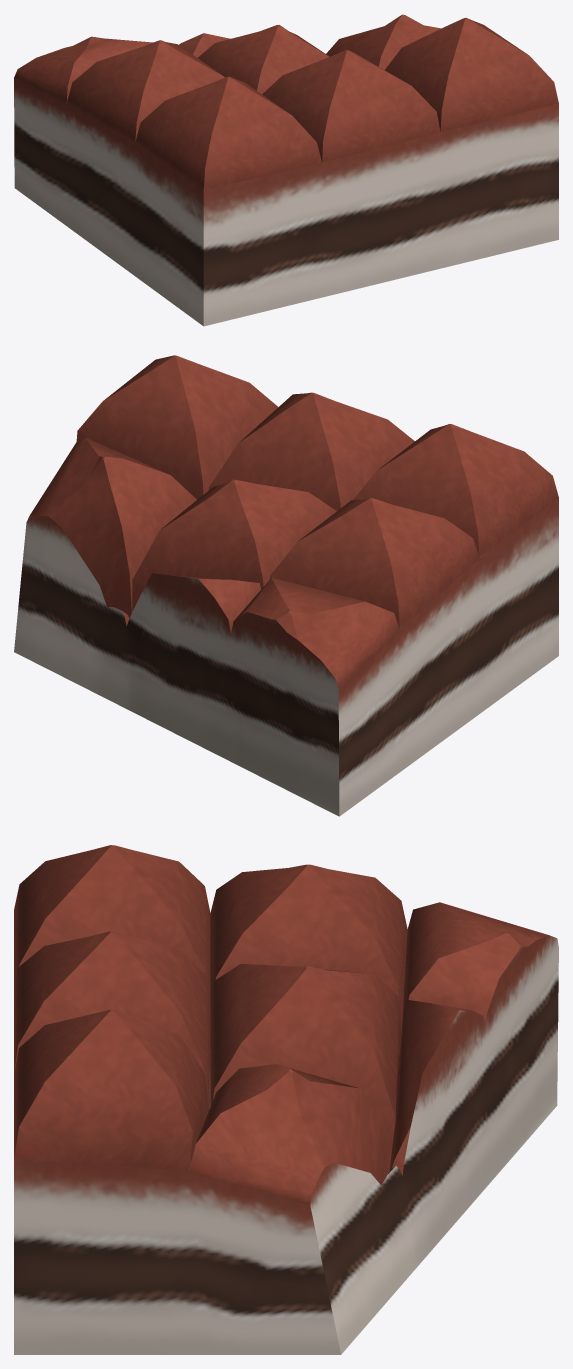
The model's file is Tiramisu Stage 2.fbx.
3 renders of one model, top to bottom at view 1: azimuth 30°, elevation 25°; view 2: azimuth 150°, elevation 25°; view 3: azimuth 270°, elevation 25°, orthographic. The views are drawn at different scales.
Parts seen in each view (by area): view 1: pCube22; view 2: pCube22; view 3: pCube22.
Boxes of the visible parts, x1=… form: pCube22: x1=14, y1=14, x2=558, y2=326; pCube22: x1=14, y1=355, x2=558, y2=816; pCube22: x1=14, y1=845, x2=558, y2=1354.
Size of the model in its own units: 234 by 132 by 216.
Materials: 1 (1 with a texture image).
